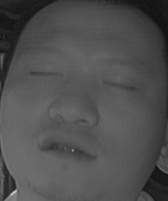blink: (26, 57, 64, 85), (102, 68, 135, 97)
mouth: (35, 127, 101, 167)
